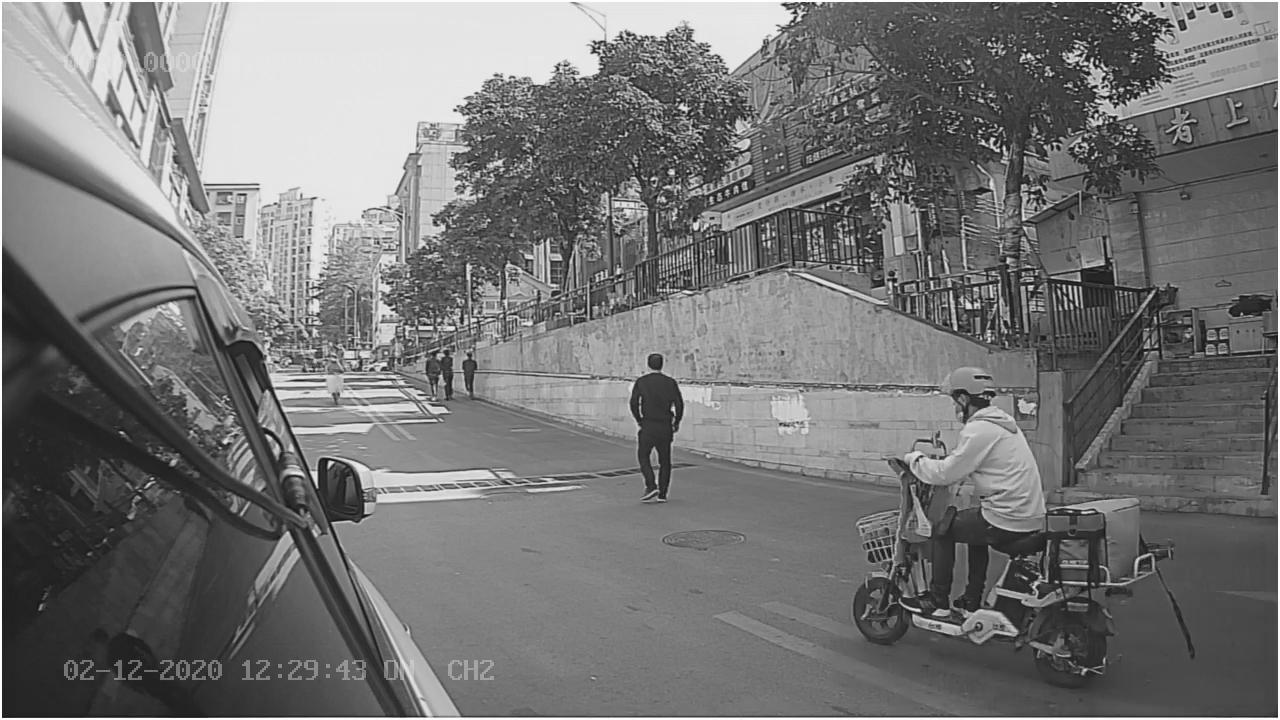person: (901, 358, 1038, 484), (611, 342, 693, 509)
